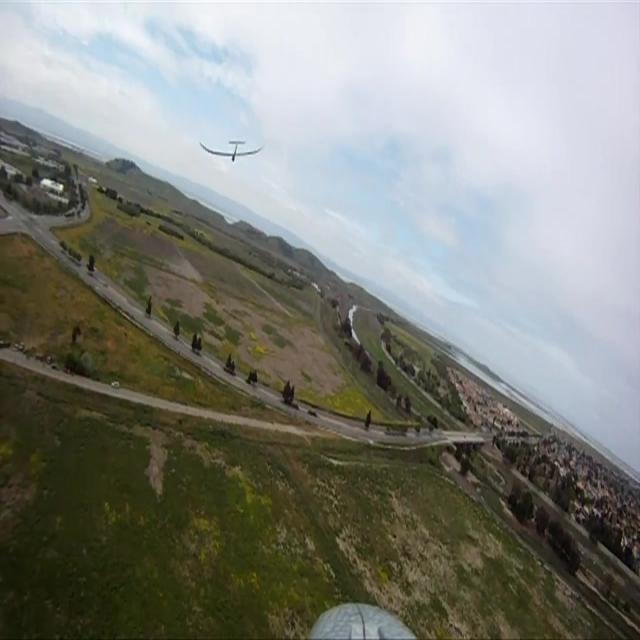iha: (230, 139, 232, 165)
